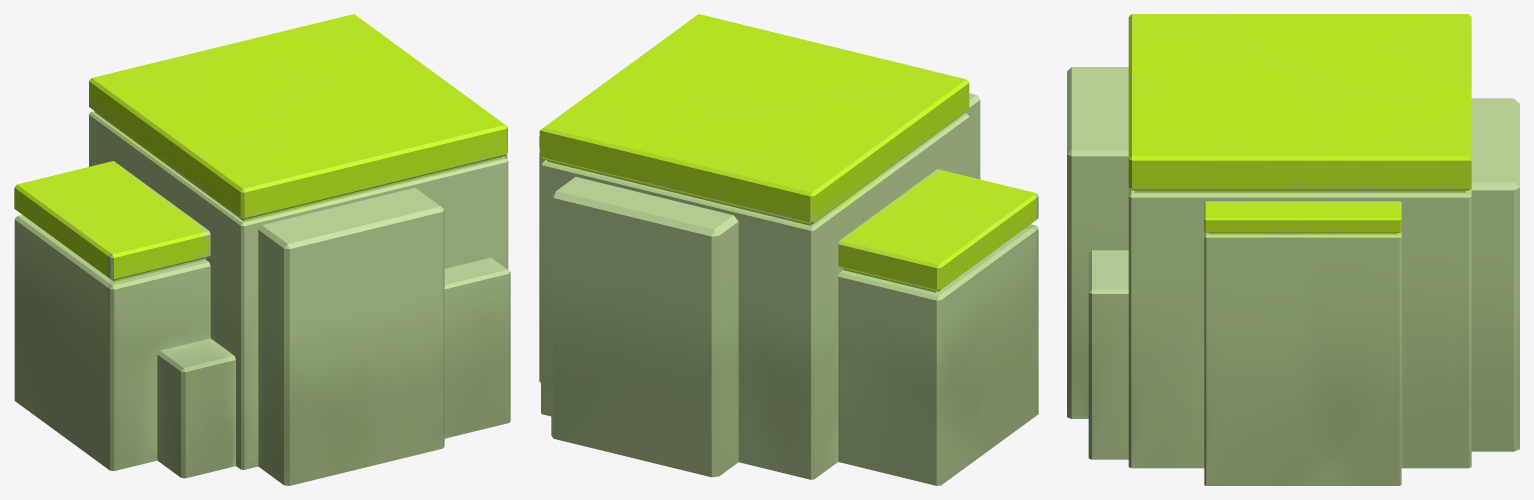
The model's file is rocks 2 .fbx.
3 views of the same model, side by side, from view 1: azimuth 30°, elevation 25°; view 2: azimuth 150°, elevation 25°; view 3: azimuth 270°, elevation 25° (orthographic). The views are drawn at different scales.
Parts seen in each view (by area): view 1: Cube; view 2: Cube; view 3: Cube.
Part boxes in pixels (x1,y1,x2,y2): Cube: [14, 14, 510, 485]; Cube: [539, 14, 1038, 485]; Cube: [1067, 14, 1519, 485].
Size of the model in its own units: 443 by 297 by 392.
